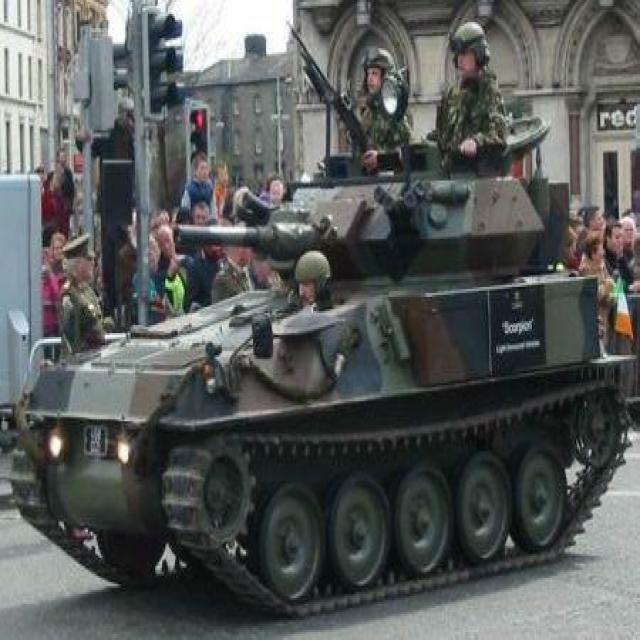Tanks: (18, 145, 560, 591)
